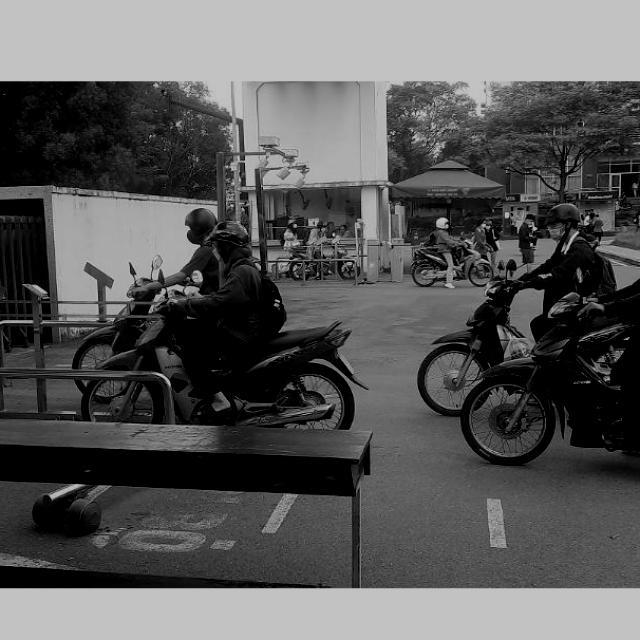Helmet: (543, 200, 581, 246), (181, 206, 220, 246), (211, 220, 252, 258)
